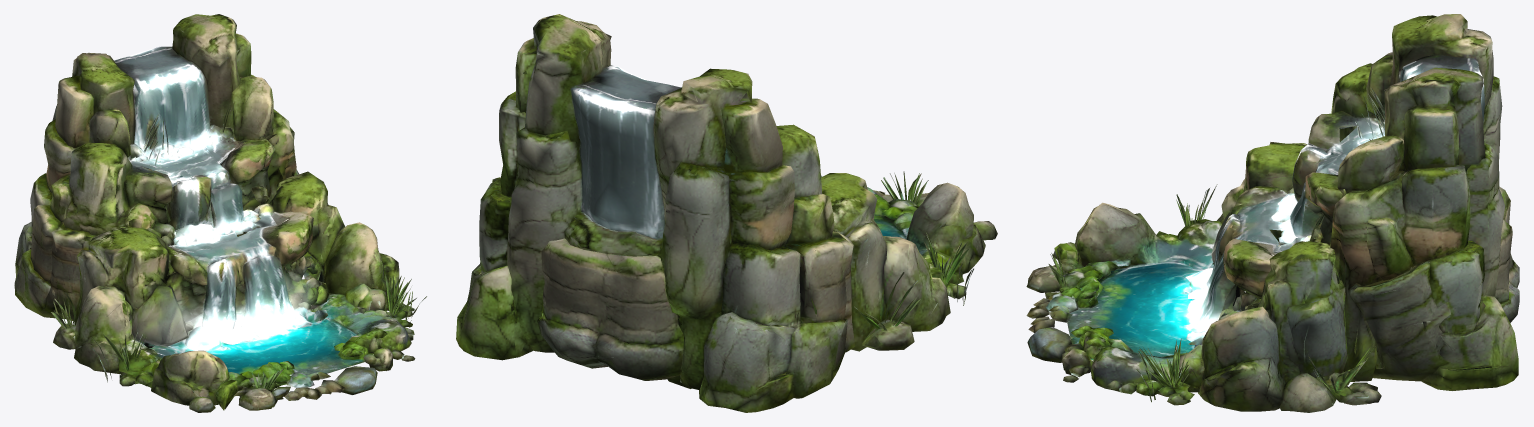
Rendered from Meshy_AI_Emerald_Cascade_0721143452_texture.fbx.
3 renders of one model, left to right at view 1: azimuth 30°, elevation 25°; view 2: azimuth 150°, elevation 25°; view 3: azimuth 270°, elevation 25°, orthographic. The views are drawn at different scales.
Parts seen in each view (by area): view 1: mesh_node; view 2: mesh_node; view 3: mesh_node.
Boxes of the visible parts, x1,y1,x2,y2 form: mesh_node: (14, 14, 426, 412); mesh_node: (456, 14, 997, 412); mesh_node: (1026, 14, 1519, 412).
Size of the model in its own units: 90.62 by 64.65 by 100.
1 material, 1 textured.
